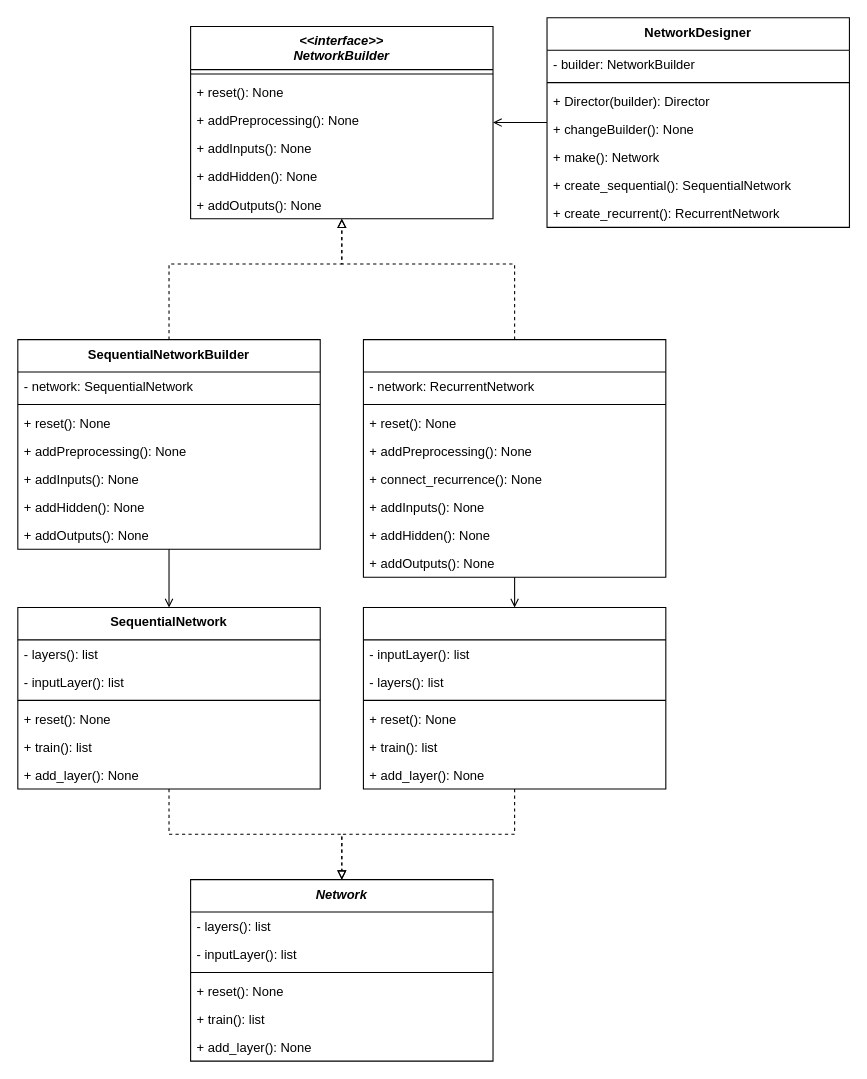
Some shapes in this 867 by 1079 pixel diagram are drawn without their labels. Each missing label, with the box of its shape:
RecurrentNetwork: (362, 606, 666, 789)
RecurrentNetworkBuilder: (362, 339, 666, 577)
